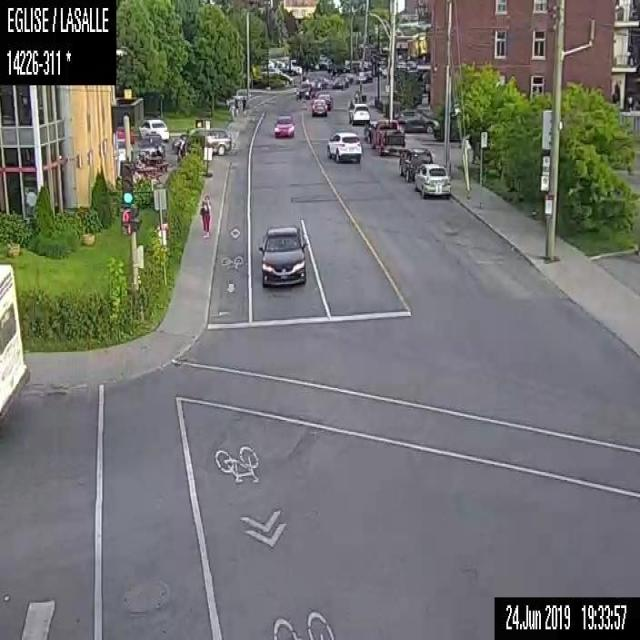bus: (0, 262, 32, 429)
pedestrian: (199, 191, 211, 236), (228, 100, 236, 124), (240, 93, 247, 118), (232, 94, 239, 118)
vehicle: (256, 222, 306, 290), (171, 126, 235, 156), (411, 161, 452, 199), (368, 118, 404, 158), (396, 145, 432, 183), (326, 129, 362, 164), (394, 108, 439, 134), (136, 116, 169, 140), (272, 110, 295, 138), (348, 102, 369, 124), (308, 98, 328, 117), (296, 81, 314, 100), (363, 119, 378, 141), (316, 91, 333, 108), (331, 74, 349, 88), (311, 76, 328, 90)
